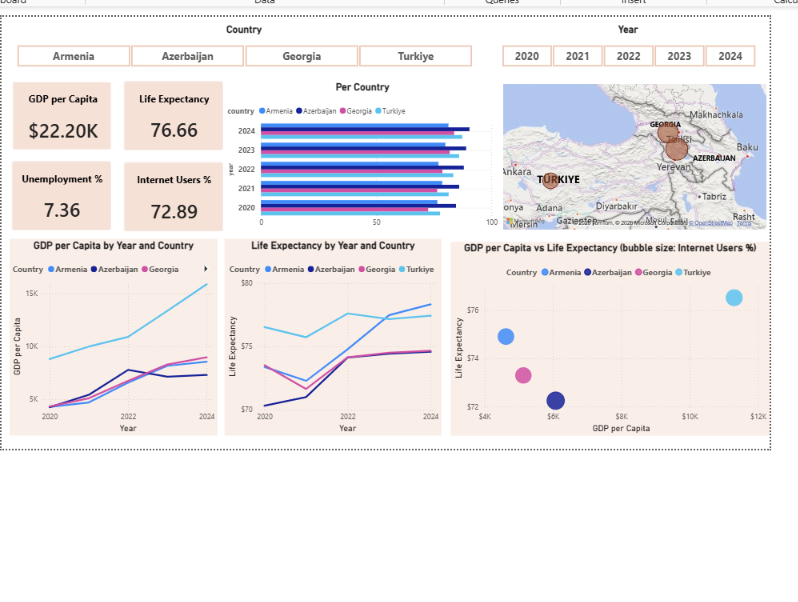

The page's visual inventory and layout, read from the dashboard file:
{"tool":"powerbi","page":{"name":"Page 1","canvas":[1280,720],"ordinal":0},"visuals":[{"type":"slicer","title":"Country","fields":{"Values":["World Bank Country Year.country"]},"box":[0,61.7,808.3,80],"z":0},{"type":"slicer","title":"Year","fields":{"Values":["World Bank Country Year.year"]},"box":[808.3,58.3,471.7,80],"z":1000},{"type":"cardVisual","fields":{"Data":["Key Measure.GDP per Capita"]},"box":[0,141.7,201.7,131.7],"z":2000},{"type":"cardVisual","fields":{"Data":["Key Measure.Life Expectancy"]},"box":[186.7,141.7,200,131.7],"z":3000},{"type":"cardVisual","fields":{"Data":["Key Measure.Unemployment %"]},"box":[0,260,200,130],"z":4000},{"type":"cardVisual","fields":{"Data":["Key Measure.Internet Users %"]},"box":[186.7,260,200,131.7],"z":5000},{"type":"lineChart","fields":{"Y":["Key Measure.GDP per Capita"],"Category":["World Bank Country Year.year"],"Series":["World Bank Country Year.country"]},"box":[13.3,391.7,346.7,306.7],"z":6000},{"type":"lineChart","fields":{"Category":["World Bank Country Year.year"],"Y":["Key Measure.Life Expectancy"],"Series":["World Bank Country Year.country"]},"box":[371.7,391.7,361.7,306.7],"z":7000},{"type":"scatterChart","title":"GDP per Capita vs Life Expectancy (bubble size: Internet Users %)","fields":{"X":["Key Measure.GDP per Capita"],"Y":["Key Measure.Life Expectancy"],"Size":["Key Measure.Internet Users %"],"Series":["World Bank Country Year.country"]},"box":[748.3,391.7,531.7,306.7],"z":8000},{"type":"map","fields":{"Category":["World Bank Country Year.country"],"Size":["Key Measure.Unemployment %"]},"box":[831.7,155,448.3,221.7],"z":9000},{"type":"clusteredBarChart","title":"Per Country","fields":{"Y":["Key Measure.Internet Users %"],"Category":["World Bank Country Year.year"],"Series":["World Bank Country Year.country"]},"box":[371.7,155,460,215],"z":10000},{"type":"textbox","box":[26.7,0,1235,58.3],"z":10001}]}

Visuals, with their boxes on the page's 1280x720 design canvas (x1, y1, x2, y2). These are canvas units, not pixel positions in the 798x602 screenshot, which may show the page scaled, cropped or inside an application window:
"Country" slicer: <bbox>0, 62, 808, 142</bbox>
"Year" slicer: <bbox>808, 58, 1280, 138</bbox>
cardVisual - Key Measure.GDP per Capita: <bbox>0, 142, 202, 273</bbox>
cardVisual - Key Measure.Life Expectancy: <bbox>187, 142, 387, 273</bbox>
cardVisual - Key Measure.Unemployment %: <bbox>0, 260, 200, 390</bbox>
cardVisual - Key Measure.Internet Users %: <bbox>187, 260, 387, 392</bbox>
lineChart - Key Measure.GDP per Capita x World Bank Country Year.year: <bbox>13, 392, 360, 698</bbox>
lineChart - World Bank Country Year.year x Key Measure.Life Expectancy: <bbox>372, 392, 733, 698</bbox>
"GDP per Capita vs Life Expectancy (bubble size: Internet Users %)" scatterChart: <bbox>748, 392, 1280, 698</bbox>
map - World Bank Country Year.country x Key Measure.Unemployment %: <bbox>832, 155, 1280, 377</bbox>
"Per Country" clusteredBarChart: <bbox>372, 155, 832, 370</bbox>
textbox: <bbox>27, 0, 1262, 58</bbox>
